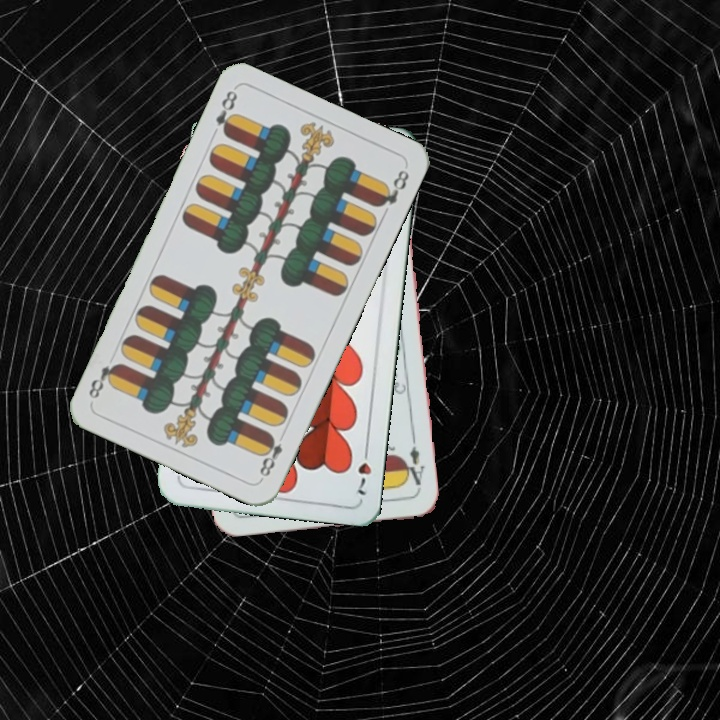E8: (255, 430, 286, 482), (211, 86, 240, 139)
EA: (400, 442, 427, 493)
H7: (353, 441, 374, 498)
